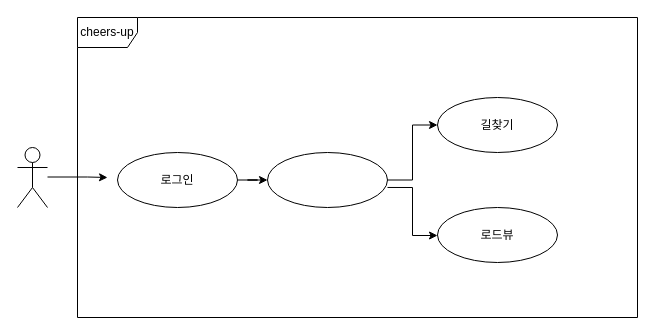
This 655x335 diagram has some shape labels left out. The centre of each missing label's shape, as x and y in pixels:
"Actor" goes at (x=32, y=177).
"주소검색" goes at (x=327, y=180).
